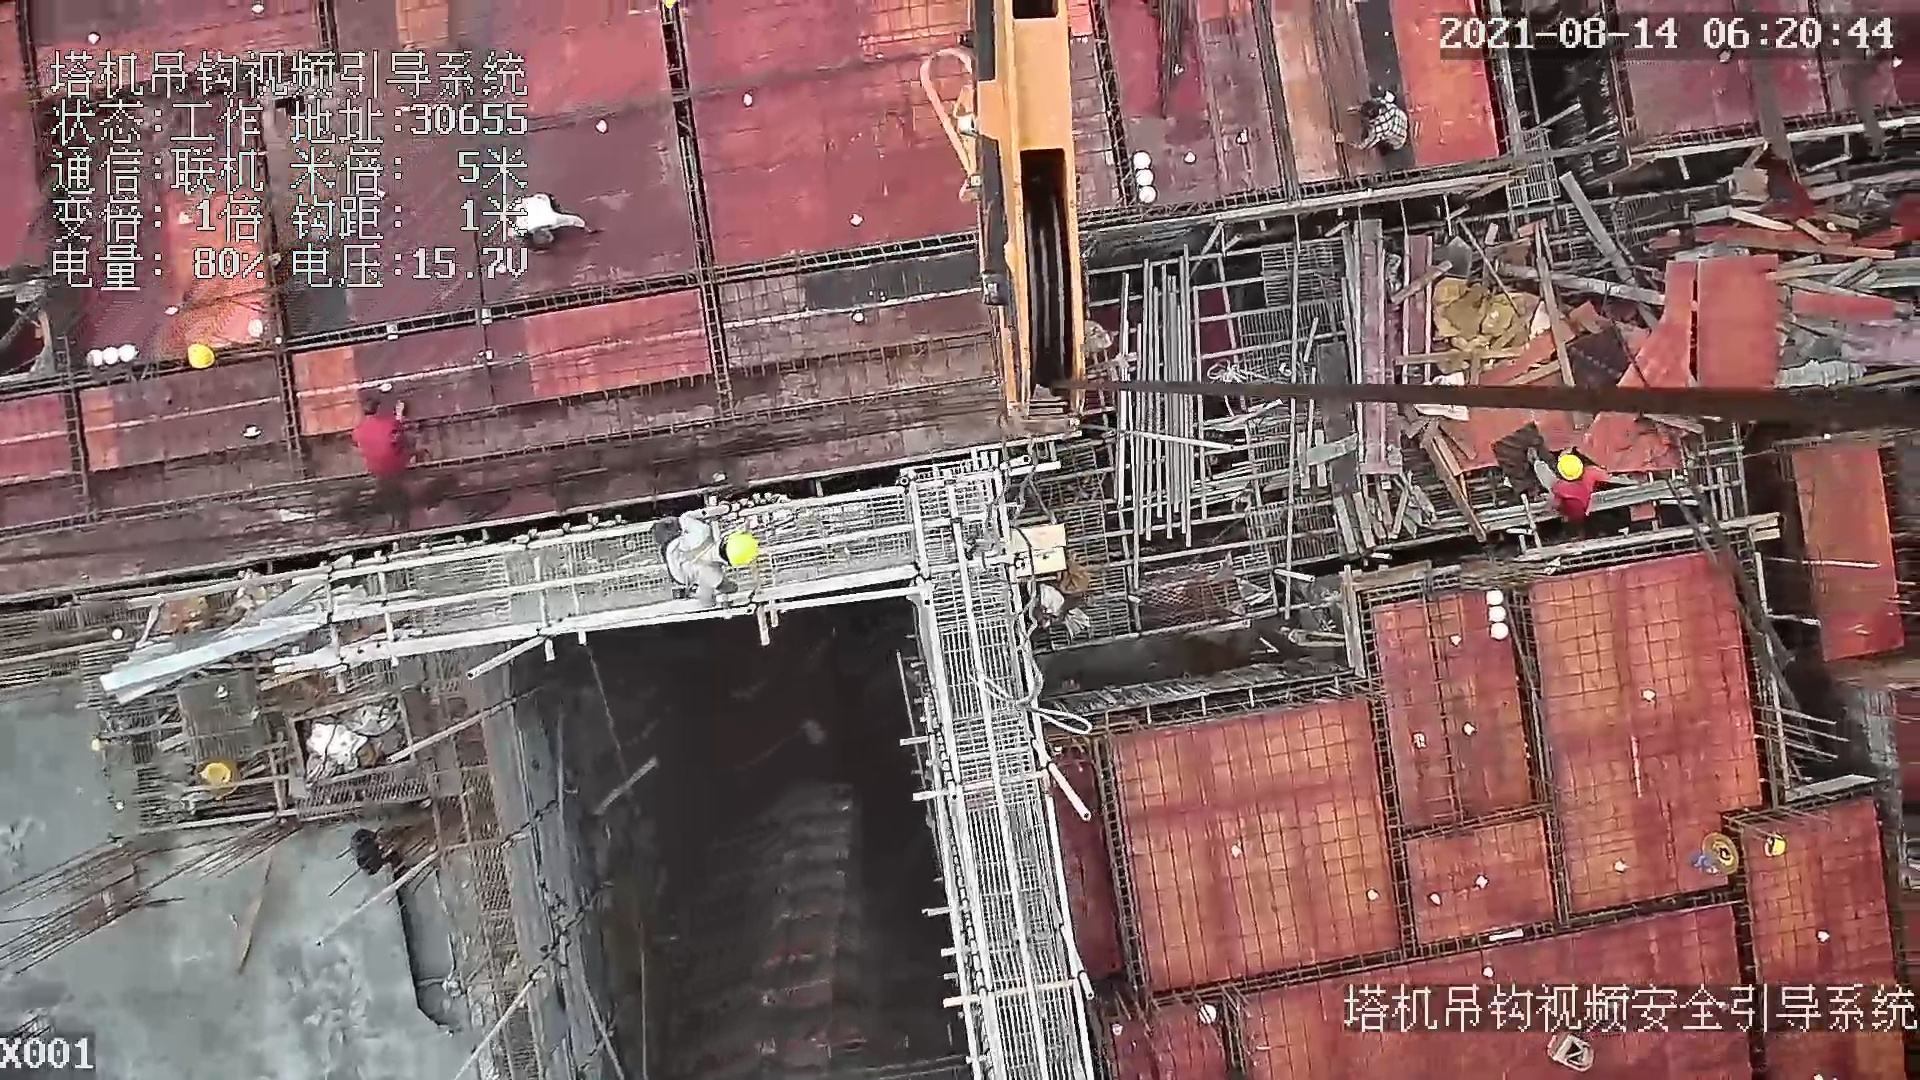helmet: (723, 531, 763, 565), (1763, 832, 1799, 864), (1555, 454, 1591, 483), (184, 343, 221, 371)
hook: (914, 1, 1097, 418)
person: (655, 508, 759, 603), (1533, 447, 1618, 532), (499, 190, 606, 253), (1337, 87, 1417, 154)
